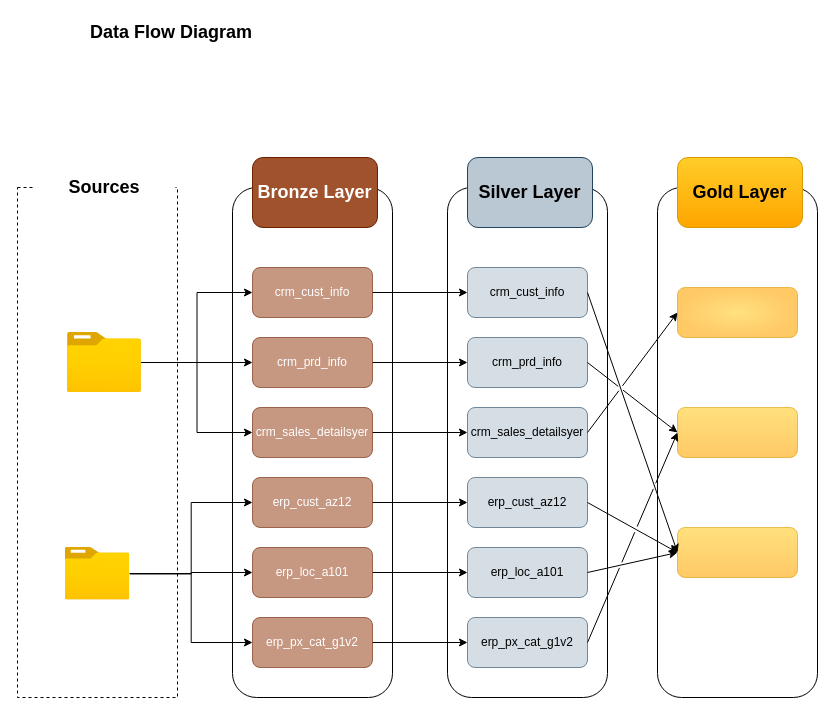
The diagram is 835 pixels wide and 715 high, and some of its shapes have lost their labels. Here are the shapes that lost their labels. From the top down, the centre of each, then its label:
[737,312]: fact_sales
[104,362]: CRM
[737,432]: dim_product
[737,552]: dim _customer
[97,573]: ERP
